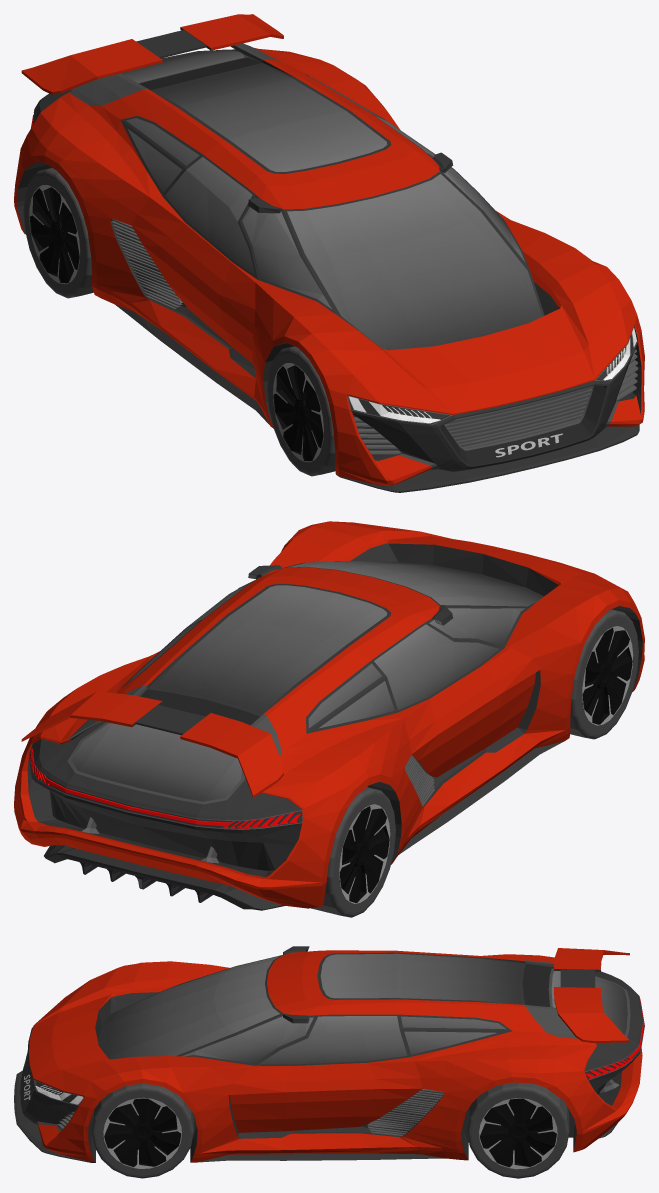
File: car 5.obj
3 renders of one model, top to bottom at view 1: azimuth 30°, elevation 25°; view 2: azimuth 150°, elevation 25°; view 3: azimuth 270°, elevation 25°, orthographic. The views are drawn at different scales.
Visible parts, largest first — view 1: Body, Wheel_BR, Wheel_FR; view 2: Body, Wheel_BR, Wheel_FR; view 3: Body, Wheel_BL, Wheel_FL.
Boxes of the visible parts, box(x1,y1,x2,y2) form: Body: box(14, 14, 644, 492); Wheel_BR: box(23, 168, 93, 298); Wheel_FR: box(267, 346, 335, 476); Body: box(14, 521, 644, 910); Wheel_BR: box(311, 787, 395, 917); Wheel_FR: box(570, 609, 638, 739); Body: box(14, 946, 644, 1162); Wheel_BL: box(467, 1082, 569, 1178); Wheel_FL: box(91, 1083, 193, 1178).
Bounding box in the file's own units: 62.62 × 36.52 × 142.
